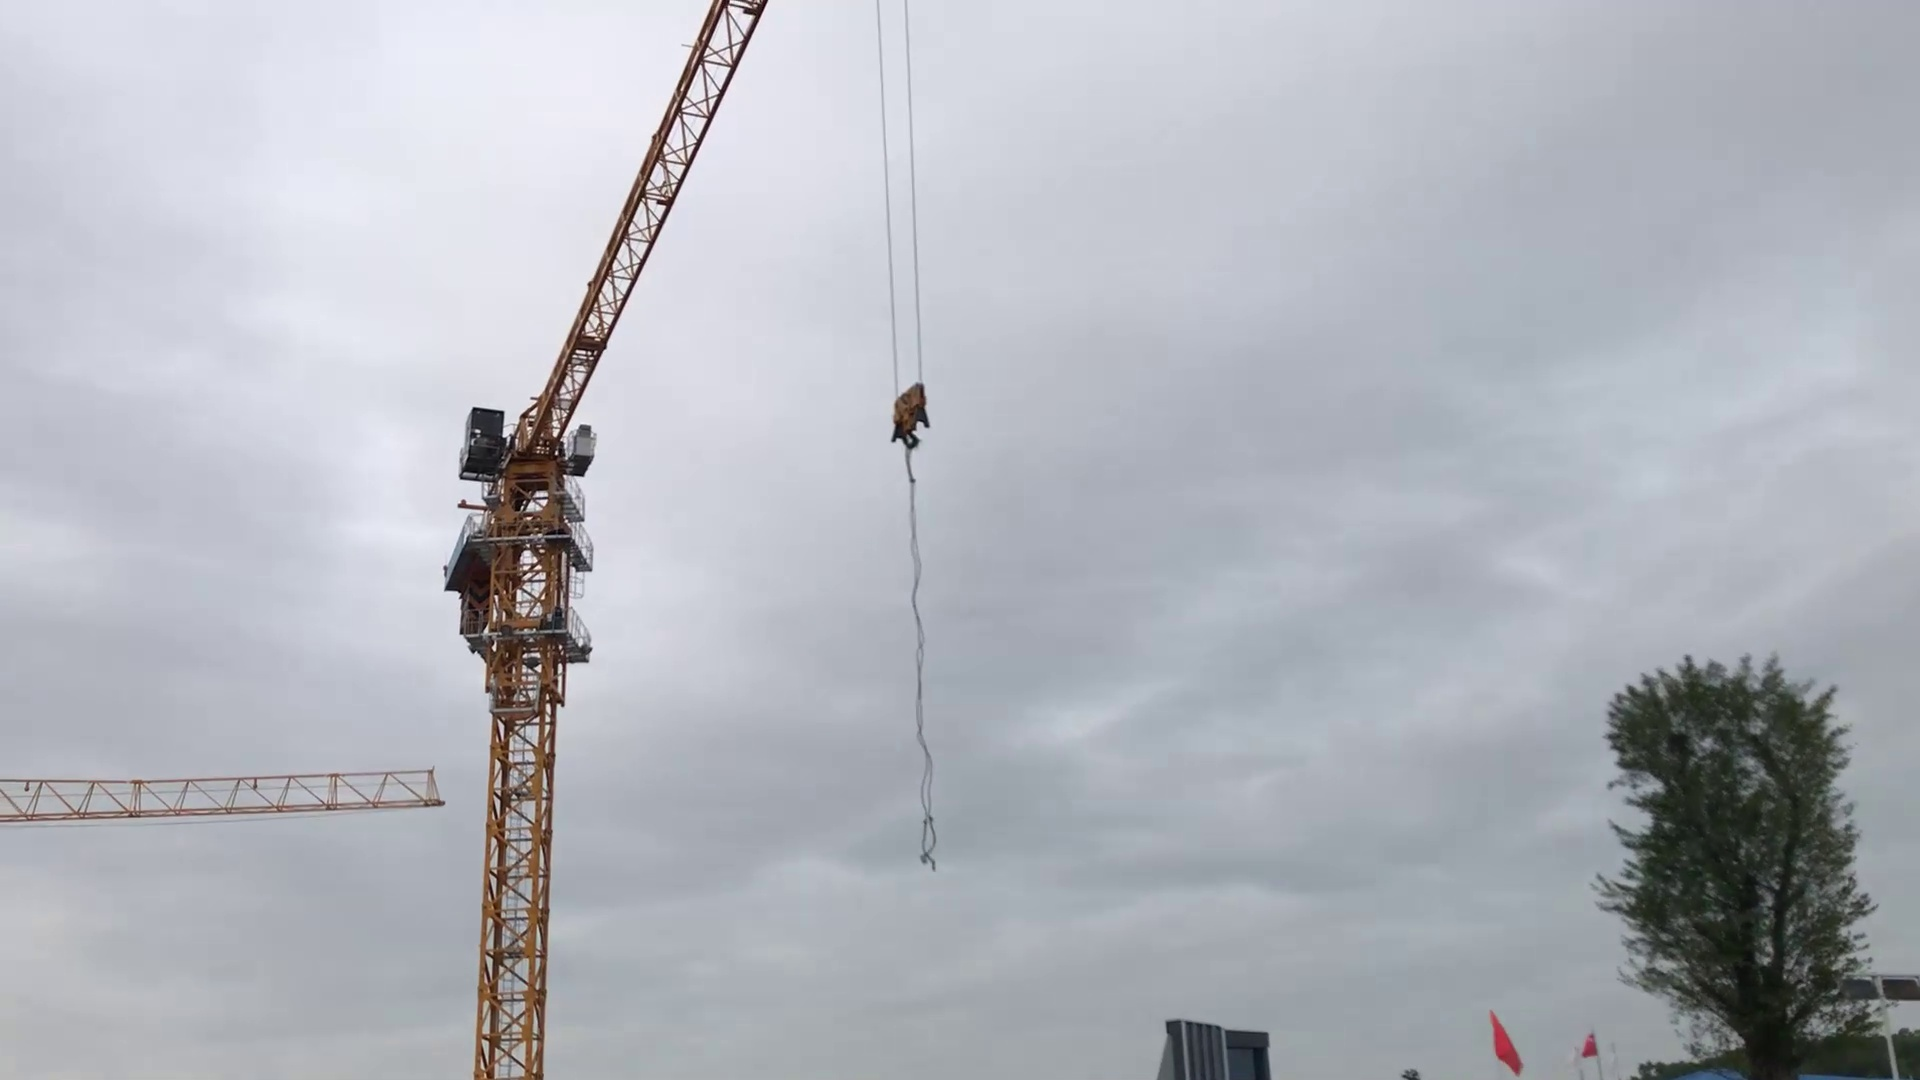hook: (882, 382, 935, 456)
